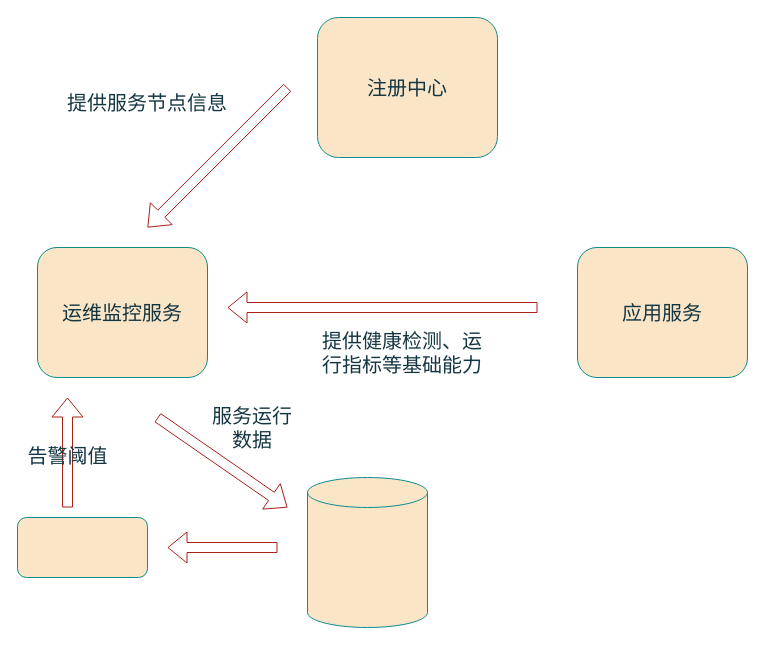
Some shapes in this 765 by 645 pixel diagram are drawn without their labels. Each missing label, with the centre of its shape:
"AI离线分析" goes at point (82, 547).
"数据库" goes at point (367, 552).
